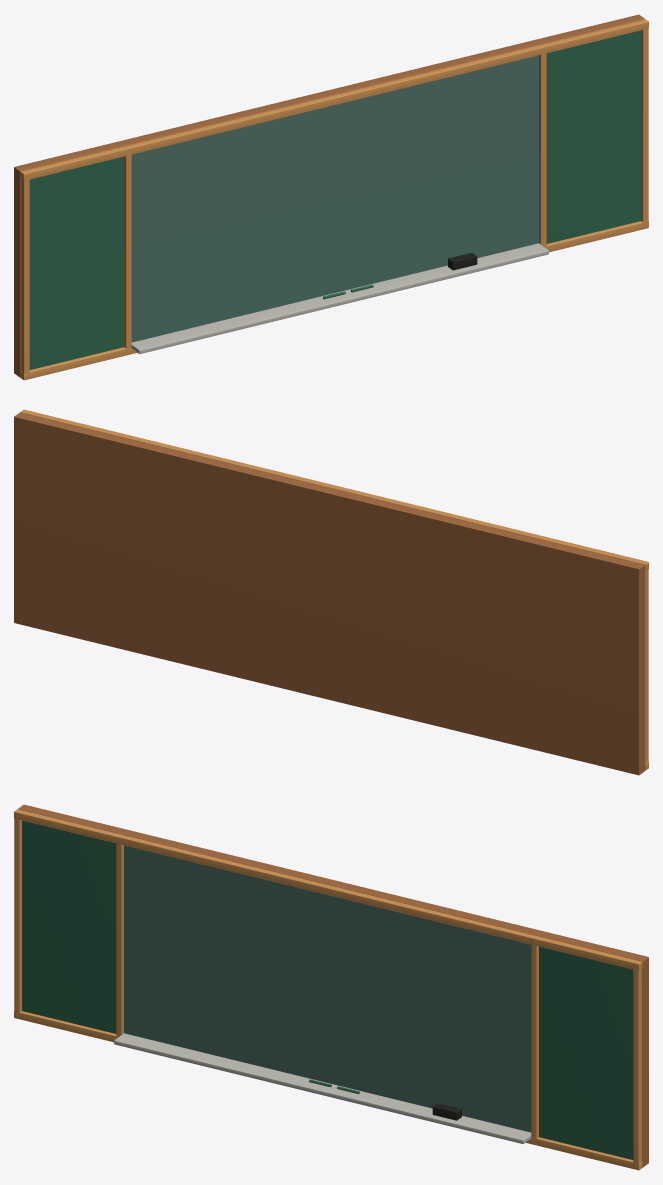
The model's file is TeachingBoard.fbx.
3 renders of one model, top to bottom at view 1: azimuth 30°, elevation 25°; view 2: azimuth 150°, elevation 25°; view 3: azimuth 330°, elevation 25°, orthographic.
Parts seen in each view (by area): view 1: Porcelain enamel, Chalk green, Honey beech, Amber teak, Brushed nickel; view 2: Amber teak, Honey beech; view 3: Porcelain enamel, Chalk green, Honey beech, Amber teak, Brushed nickel.
Part boxes in pixels (box(x1,y1,x2,y2)): Porcelain enamel: box(131, 55, 538, 342); Chalk green: box(29, 30, 640, 369); Honey beech: box(20, 19, 648, 380); Amber teak: box(14, 14, 644, 377); Brushed nickel: box(131, 243, 548, 354); Amber teak: box(14, 412, 644, 775); Honey beech: box(20, 409, 648, 770); Porcelain enamel: box(124, 845, 531, 1132); Chalk green: box(22, 820, 633, 1159); Honey beech: box(14, 809, 642, 1170); Amber teak: box(18, 804, 648, 1167); Brushed nickel: box(114, 1033, 531, 1144).
Size of the model in its own units: 380 by 120 by 18.75.
